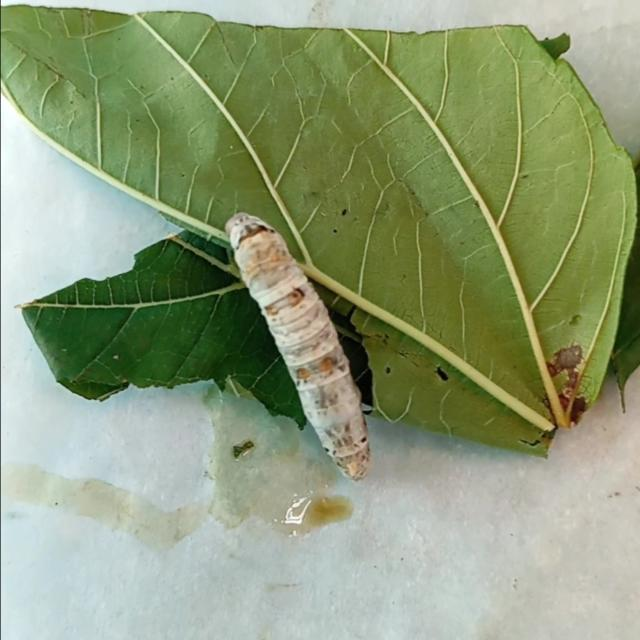Grasserie: (218, 200, 385, 498)
